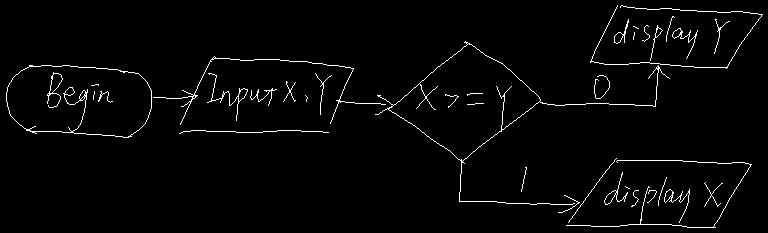arrow: (459, 159, 579, 212), (540, 65, 669, 106), (336, 95, 393, 114), (153, 90, 197, 106)
data: (179, 56, 353, 133), (566, 158, 751, 227), (590, 5, 762, 68)
decision: (388, 41, 540, 163)
terminator: (6, 65, 151, 137)
text: (604, 172, 722, 223), (207, 73, 331, 120), (614, 16, 729, 60), (416, 84, 511, 131), (47, 72, 112, 131), (594, 75, 609, 98), (521, 167, 526, 191)
